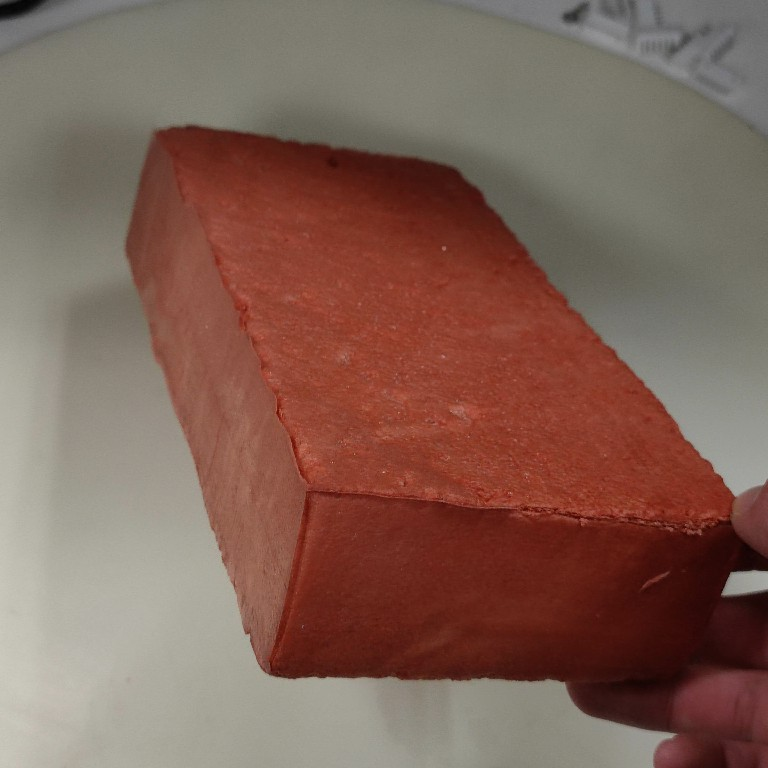brick: (116, 118, 741, 691)
